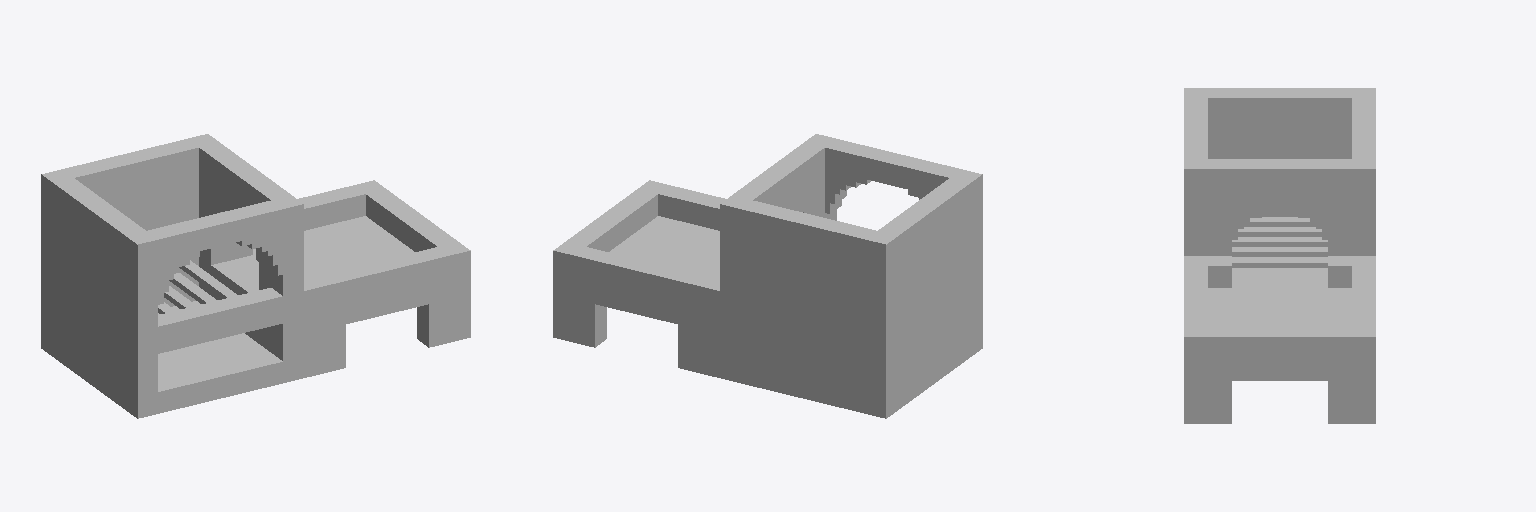
File: forge.obj
3 renders of one model, left to right at view 1: azimuth 30°, elevation 25°; view 2: azimuth 150°, elevation 25°; view 3: azimuth 270°, elevation 25°, orthographic.
Parts seen in each view (by area): view 1: object 1; view 2: object 1; view 3: object 1.
Boxes of the visible parts, x1,y1,x2,y2 form: object 1: [41, 134, 470, 418]; object 1: [553, 134, 982, 418]; object 1: [1184, 88, 1375, 423].
Bounding box in the file's own units: 6.4 × 3.2 × 3.2.